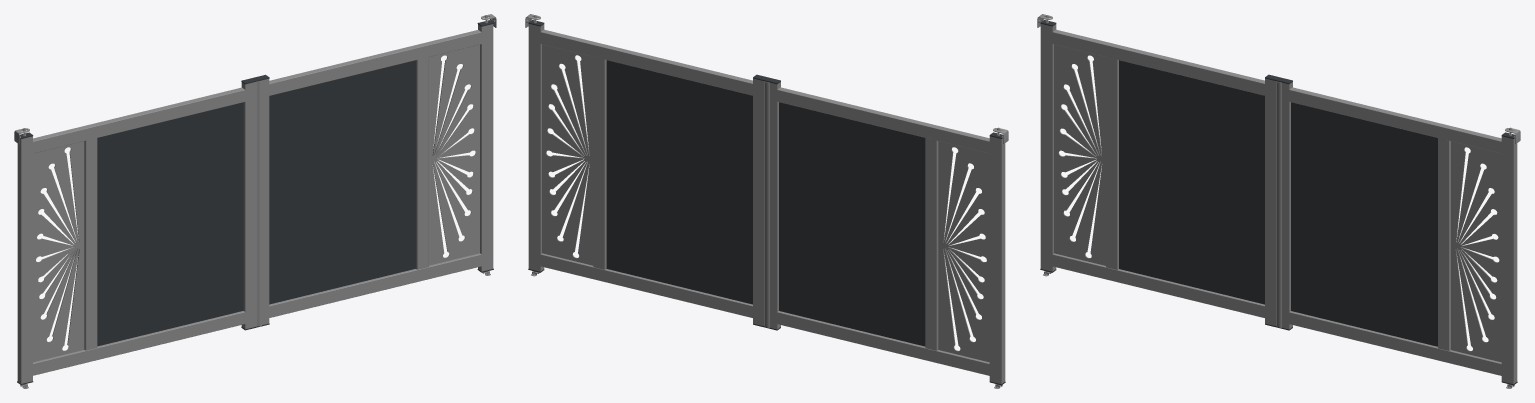
3 renders of one model, left to right at view 1: azimuth 30°, elevation 25°; view 2: azimuth 150°, elevation 25°; view 3: azimuth 330°, elevation 25°, orthographic.
Parts seen in each view (by area): view 1: Chapa Alucobond035, Chapa Alucobond008, pan, pan001, Shape107412643, Shape107412740, Shape107412638, Shape107412347, Shape107412750, Shape107412749, Shape107412346, Shape107412345 (+3 smaller); view 2: Chapa Alucobond008, Chapa Alucobond035, pan, pan001, Shape107412643, Shape107412740, Shape107412750, Shape107412347, Shape107412346, Shape107412749, Shape107412345, Shape107412739 (+3 smaller); view 3: Chapa Alucobond035, Chapa Alucobond008, pan, pan001, Shape107412740, Shape107412643, Shape107412347, Shape107412750, Shape107412749, Shape107412346, Shape107412638, Shape107412748 (+3 smaller).
Boxes of the visible parts, x1,y1,x2,y2 form: Chapa Alucobond035: (269,60,415,304); Chapa Alucobond008: (97,102,243,346); pan: (33,141,84,362); pan001: (429,44,479,265); Shape107412643: (17,136,32,383); Shape107412740: (478,24,493,271); Shape107412638: (241,81,256,329); Shape107412347: (33,87,245,153); Shape107412750: (269,30,481,95); Shape107412749: (269,253,481,317); Shape107412346: (33,311,245,375); Shape107412345: (84,138,97,350); Chapa Alucobond008: (779,102,925,346); Chapa Alucobond035: (606,60,752,304); pan: (938,141,989,362); pan001: (542,44,593,265); Shape107412643: (989,136,1005,383); Shape107412740: (528,24,544,271); Shape107412750: (540,29,752,95); Shape107412347: (777,87,989,153); Shape107412346: (777,311,989,375); Shape107412749: (540,253,752,317); Shape107412345: (925,137,938,350); Shape107412739: (753,78,764,326); Chapa Alucobond035: (1291,102,1437,346); Chapa Alucobond008: (1119,60,1264,304); pan: (1054,44,1105,265); pan001: (1451,141,1501,362); Shape107412740: (1501,136,1517,383); Shape107412643: (1040,24,1056,271); Shape107412347: (1052,29,1264,95); Shape107412750: (1289,87,1501,153); Shape107412749: (1289,311,1501,375); Shape107412346: (1052,253,1264,317); Shape107412638: (1265,78,1276,326); Shape107412748: (1438,137,1450,350).
Size of the model in its own units: 3260 by 1688 by 68.93.
Materials: 5 (2 with a texture image).
